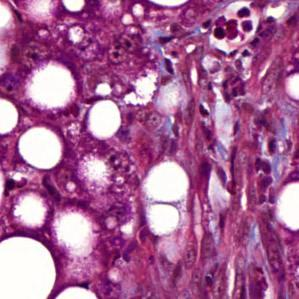steatosis: (15, 126, 65, 170), (145, 163, 194, 200), (88, 101, 125, 139)
